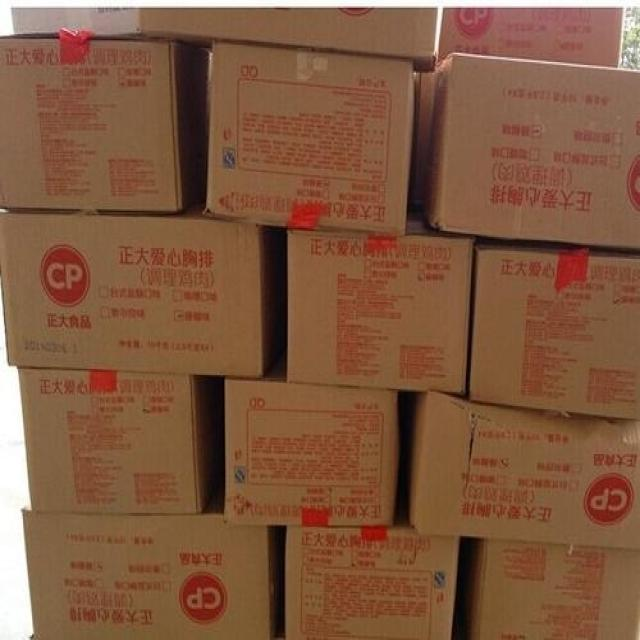Carton: (0, 211, 397, 527), (205, 45, 470, 384), (440, 54, 639, 243), (18, 507, 270, 637), (417, 387, 637, 535), (0, 33, 179, 209), (471, 251, 639, 411), (18, 372, 198, 502), (284, 521, 453, 637), (476, 539, 636, 638)
